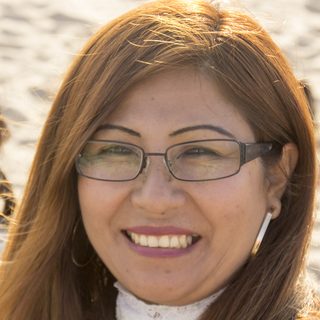eye: (173, 139, 221, 167), (96, 141, 142, 162)
